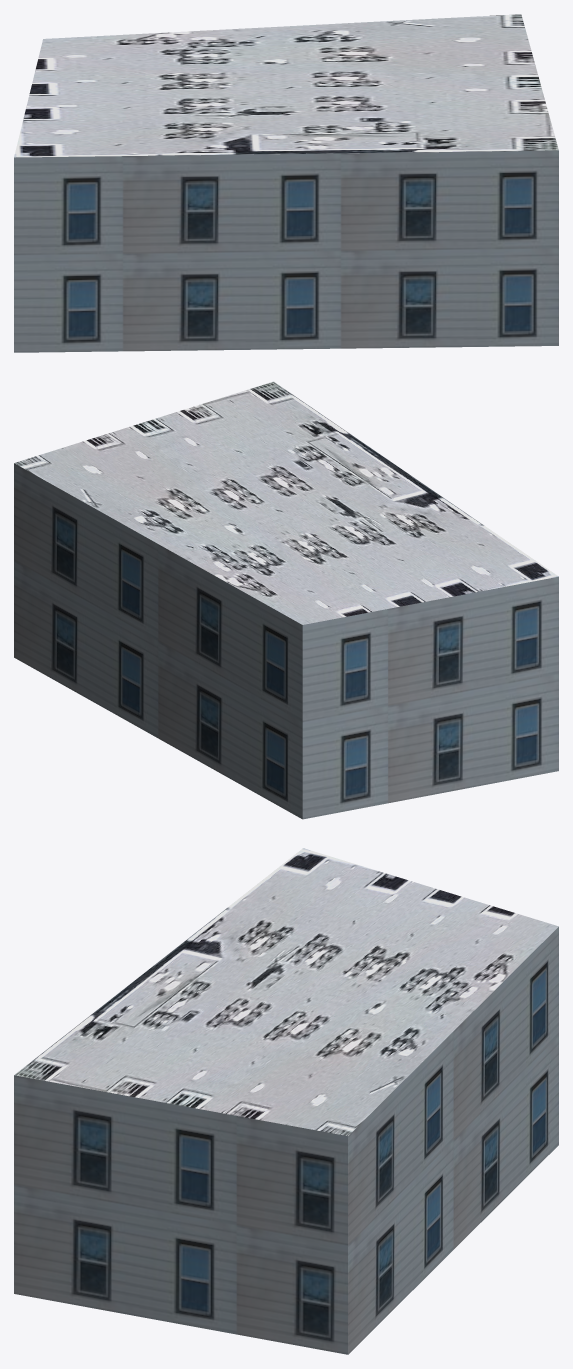
File: ResTex__624.fbx
The picture shows the model from 3 angles, top to bottom: view 1: azimuth 30°, elevation 25°; view 2: azimuth 150°, elevation 25°; view 3: azimuth 270°, elevation 25°; orthographic projection. The views are drawn at different scales.
Parts seen in each view (by area): view 1: CityEngineMaterial_18_m, CityEngineMaterial_2_m; view 2: CityEngineMaterial_18_m, CityEngineMaterial_2_m; view 3: CityEngineMaterial_18_m, CityEngineMaterial_2_m.
Boxes of the visible parts, x1=… form: CityEngineMaterial_18_m: x1=14, y1=150, x2=558, y2=352; CityEngineMaterial_2_m: x1=14, y1=14, x2=558, y2=157; CityEngineMaterial_18_m: x1=14, y1=463, x2=558, y2=819; CityEngineMaterial_2_m: x1=14, y1=381, x2=558, y2=624; CityEngineMaterial_18_m: x1=14, y1=927, x2=558, y2=1354; CityEngineMaterial_2_m: x1=14, y1=848, x2=558, y2=1135.
Bounding box in the file's own units: 16.96 × 6 × 13.56.
Materials: 2 (2 with a texture image).
